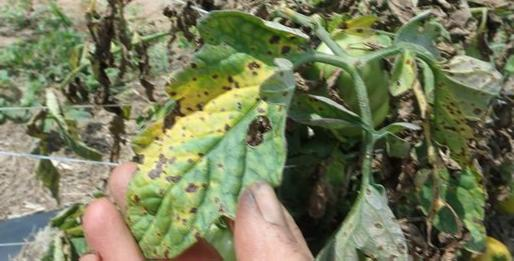Tomato Septoria leaf spot: (124, 6, 306, 260), (420, 44, 500, 164), (327, 185, 406, 261)
